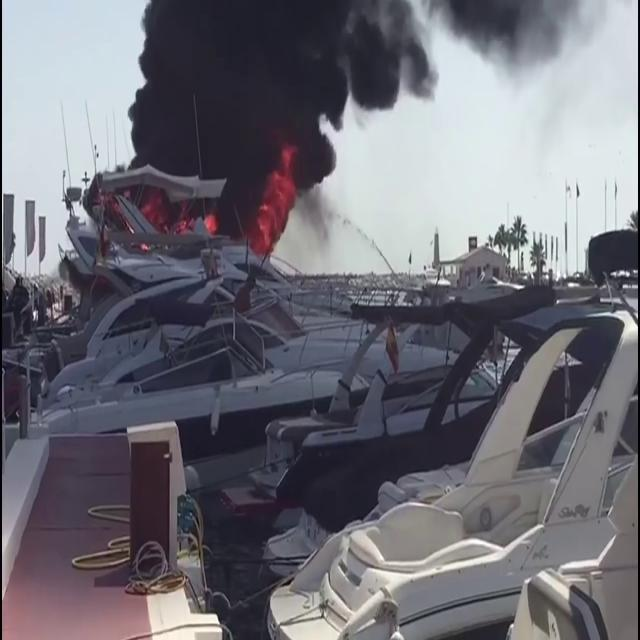Fire: (252, 152, 300, 258)
Smoke: (123, 1, 429, 231)
